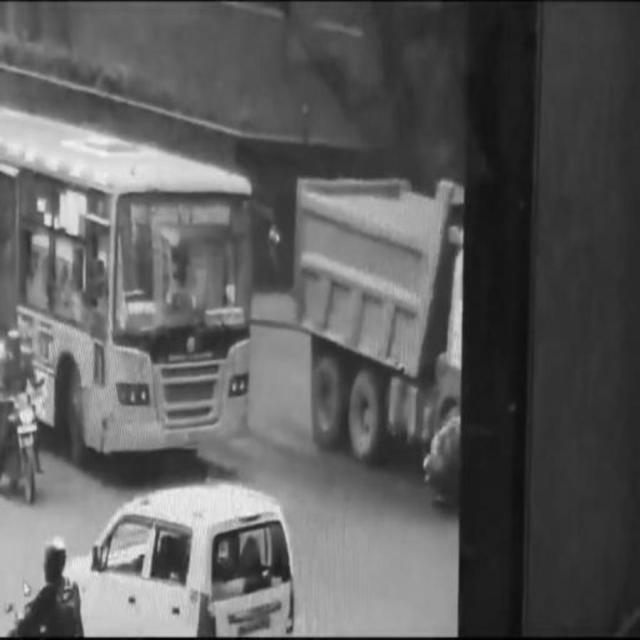vehicle: (3, 106, 251, 454), (294, 176, 468, 464), (64, 484, 296, 638), (3, 327, 45, 502)
